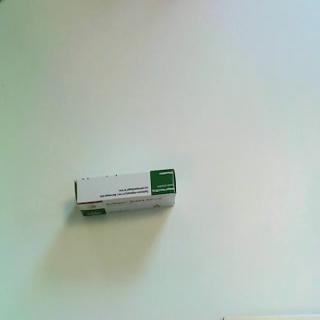nobligan_retard200mg: (74, 167, 178, 218)
